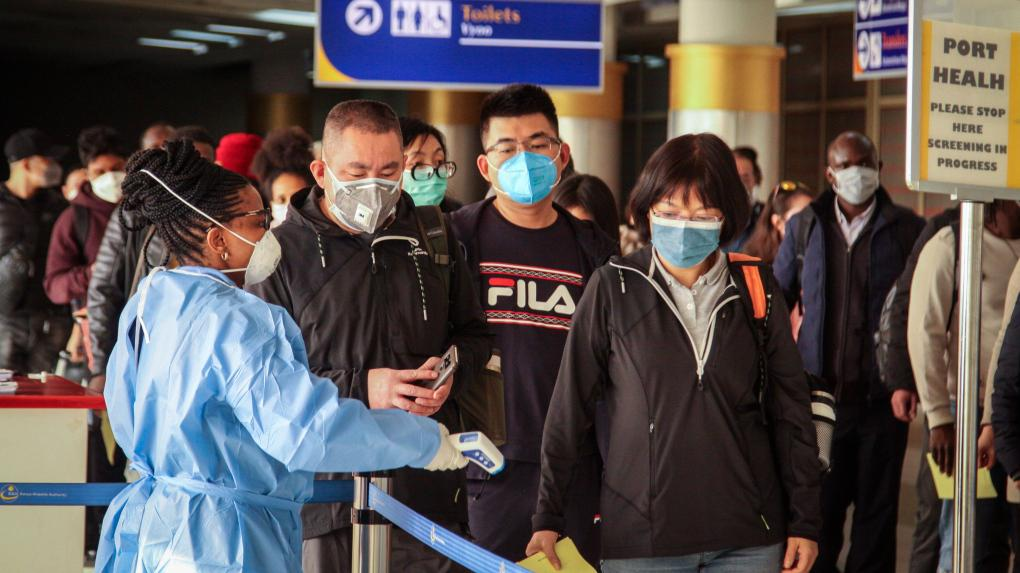mask: (488, 127, 561, 210), (324, 156, 402, 233), (646, 197, 722, 273), (226, 205, 281, 282), (402, 146, 453, 207), (832, 153, 881, 205), (89, 161, 129, 203)
